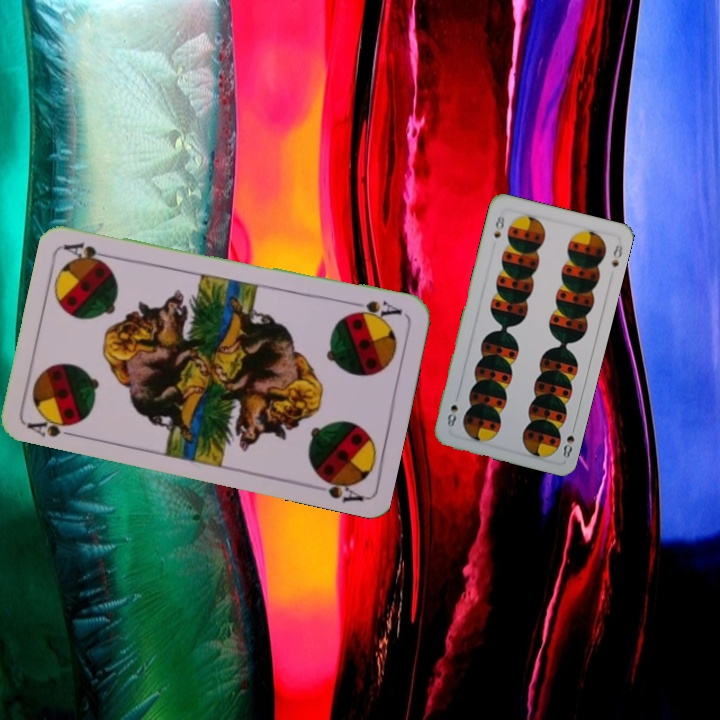S8: (559, 421, 578, 460), (489, 212, 507, 241)
SA: (23, 409, 85, 441), (345, 296, 405, 323)
